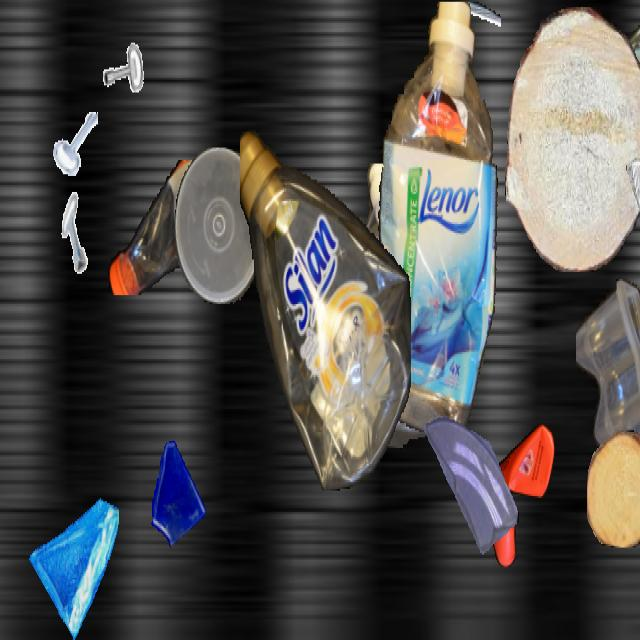glass: (424, 402, 518, 569), (28, 478, 118, 638), (146, 436, 208, 546), (626, 151, 640, 301), (639, 253, 640, 391)
metal: (438, 2, 500, 112), (91, 4, 147, 103), (54, 192, 100, 274), (53, 105, 97, 183)
plastic: (240, 117, 410, 491), (360, 2, 500, 446), (353, 164, 487, 448), (106, 160, 252, 295), (576, 279, 640, 532), (551, 2, 640, 183), (175, 148, 263, 304), (481, 425, 555, 567)
wood: (504, 7, 640, 270), (587, 430, 640, 548)
